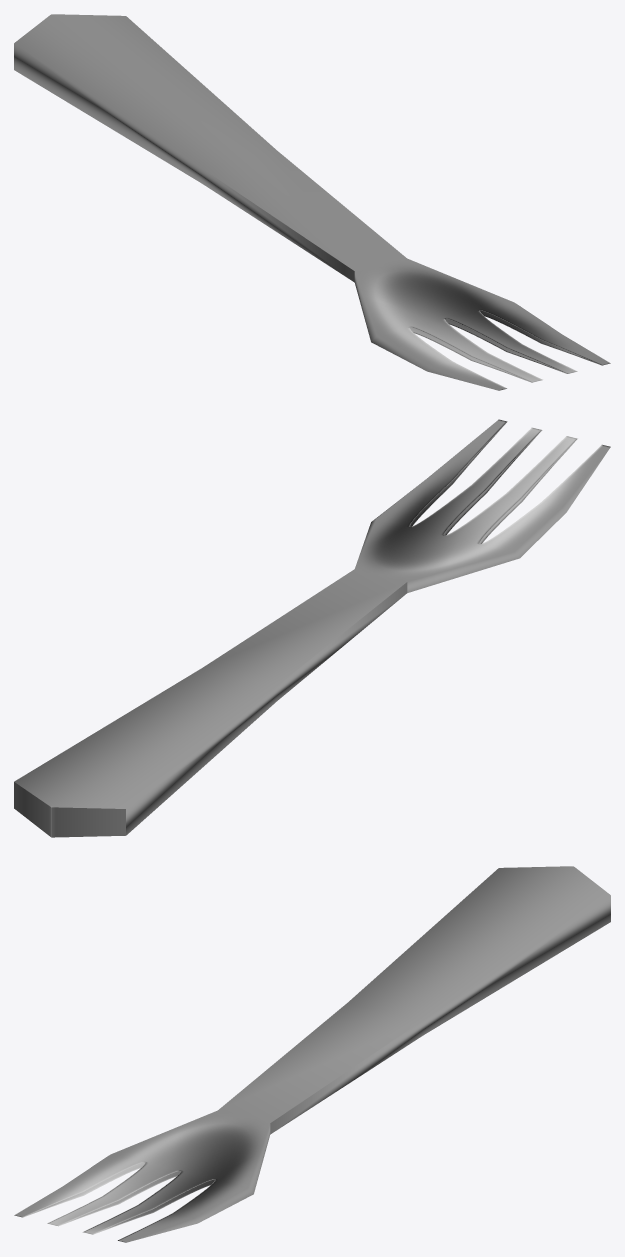
Rendered from fork.fbx.
3 renders of one model, top to bottom at view 1: azimuth 30°, elevation 25°; view 2: azimuth 150°, elevation 25°; view 3: azimuth 330°, elevation 25°, orthographic.
Parts seen in each view (by area): view 1: fork; view 2: fork; view 3: fork.
Part boxes in pixels (x1,y1,x2,y2): fork: (14, 14, 610, 390); fork: (14, 419, 610, 837); fork: (14, 866, 610, 1242).
Bounding box in the file's own units: 0.1151 × 0.0265 × 0.6744.
1 material, 1 textured.
